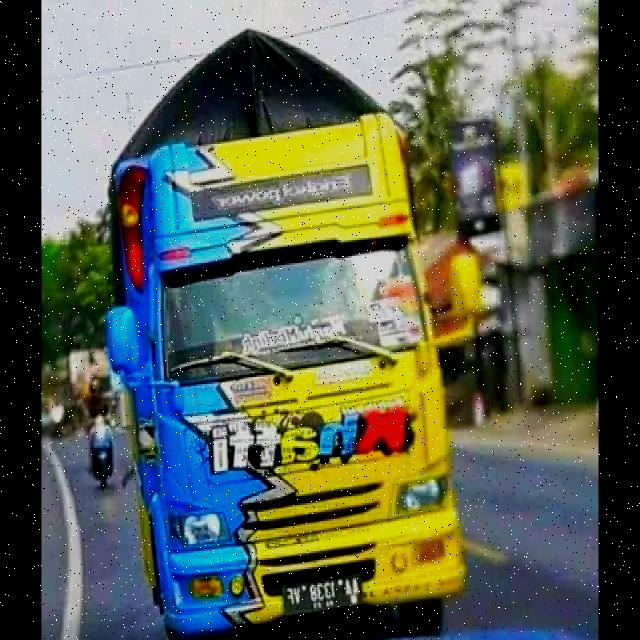truck: (108, 25, 481, 638)
